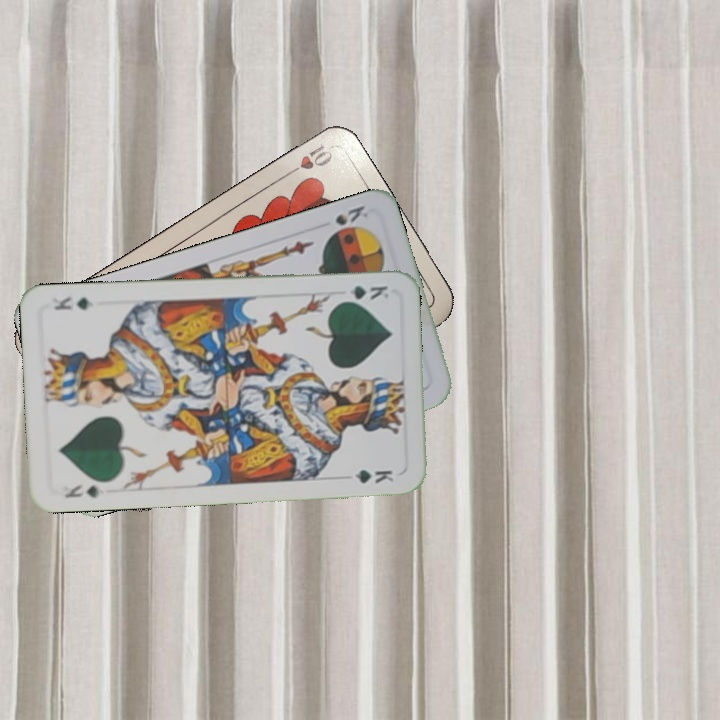GK: (335, 281, 392, 305), (61, 480, 101, 501)
H10: (280, 138, 337, 180)
SK: (331, 201, 371, 228)
